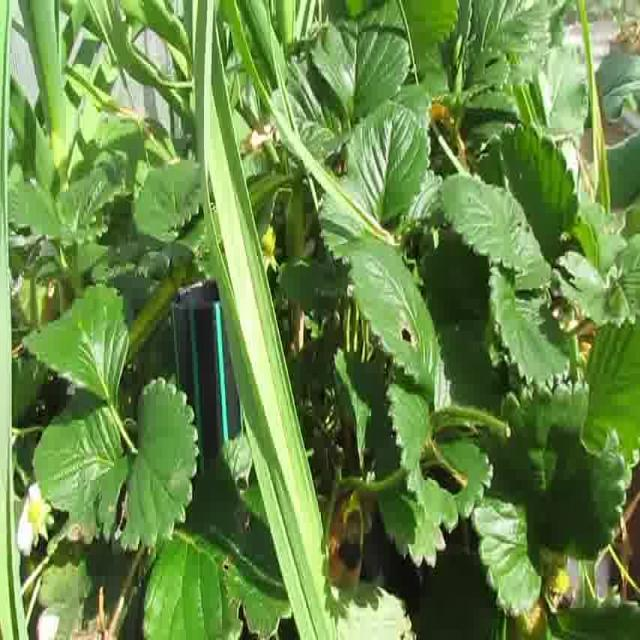Fruta sana: (514, 597, 546, 640), (538, 539, 570, 567), (540, 566, 571, 594), (262, 224, 277, 256)
Moho gris: (73, 628, 119, 640)
